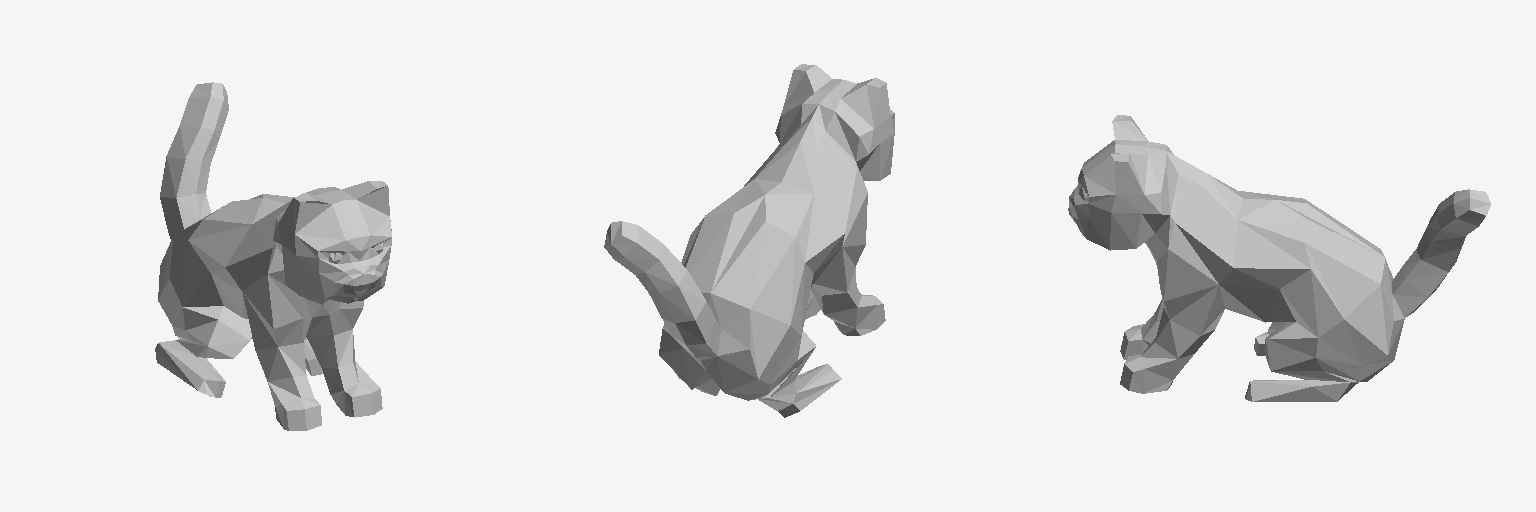
The model's file is alivecat.obj.
3 views of the same model, side by side, from view 1: azimuth 30°, elevation 25°; view 2: azimuth 150°, elevation 25°; view 3: azimuth 270°, elevation 25° (orthographic).
Parts seen in each view (by area): view 1: Cube.009; view 2: Cube.009; view 3: Cube.009.
Part boxes in pixels (bbox=[...]): Cube.009: bbox=[155, 82, 391, 430]; Cube.009: bbox=[604, 64, 894, 417]; Cube.009: bbox=[1068, 115, 1490, 401].
Size of the model in its own units: 0.6113 by 1.09 by 1.7.